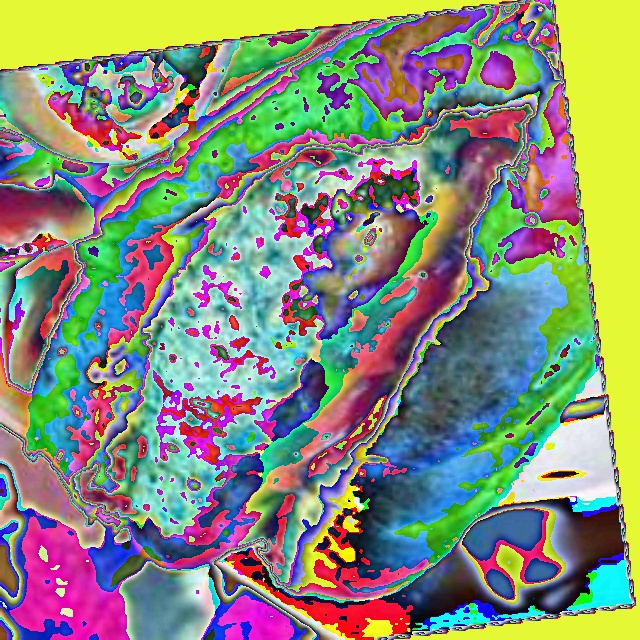background: (0, 0, 600, 605)
